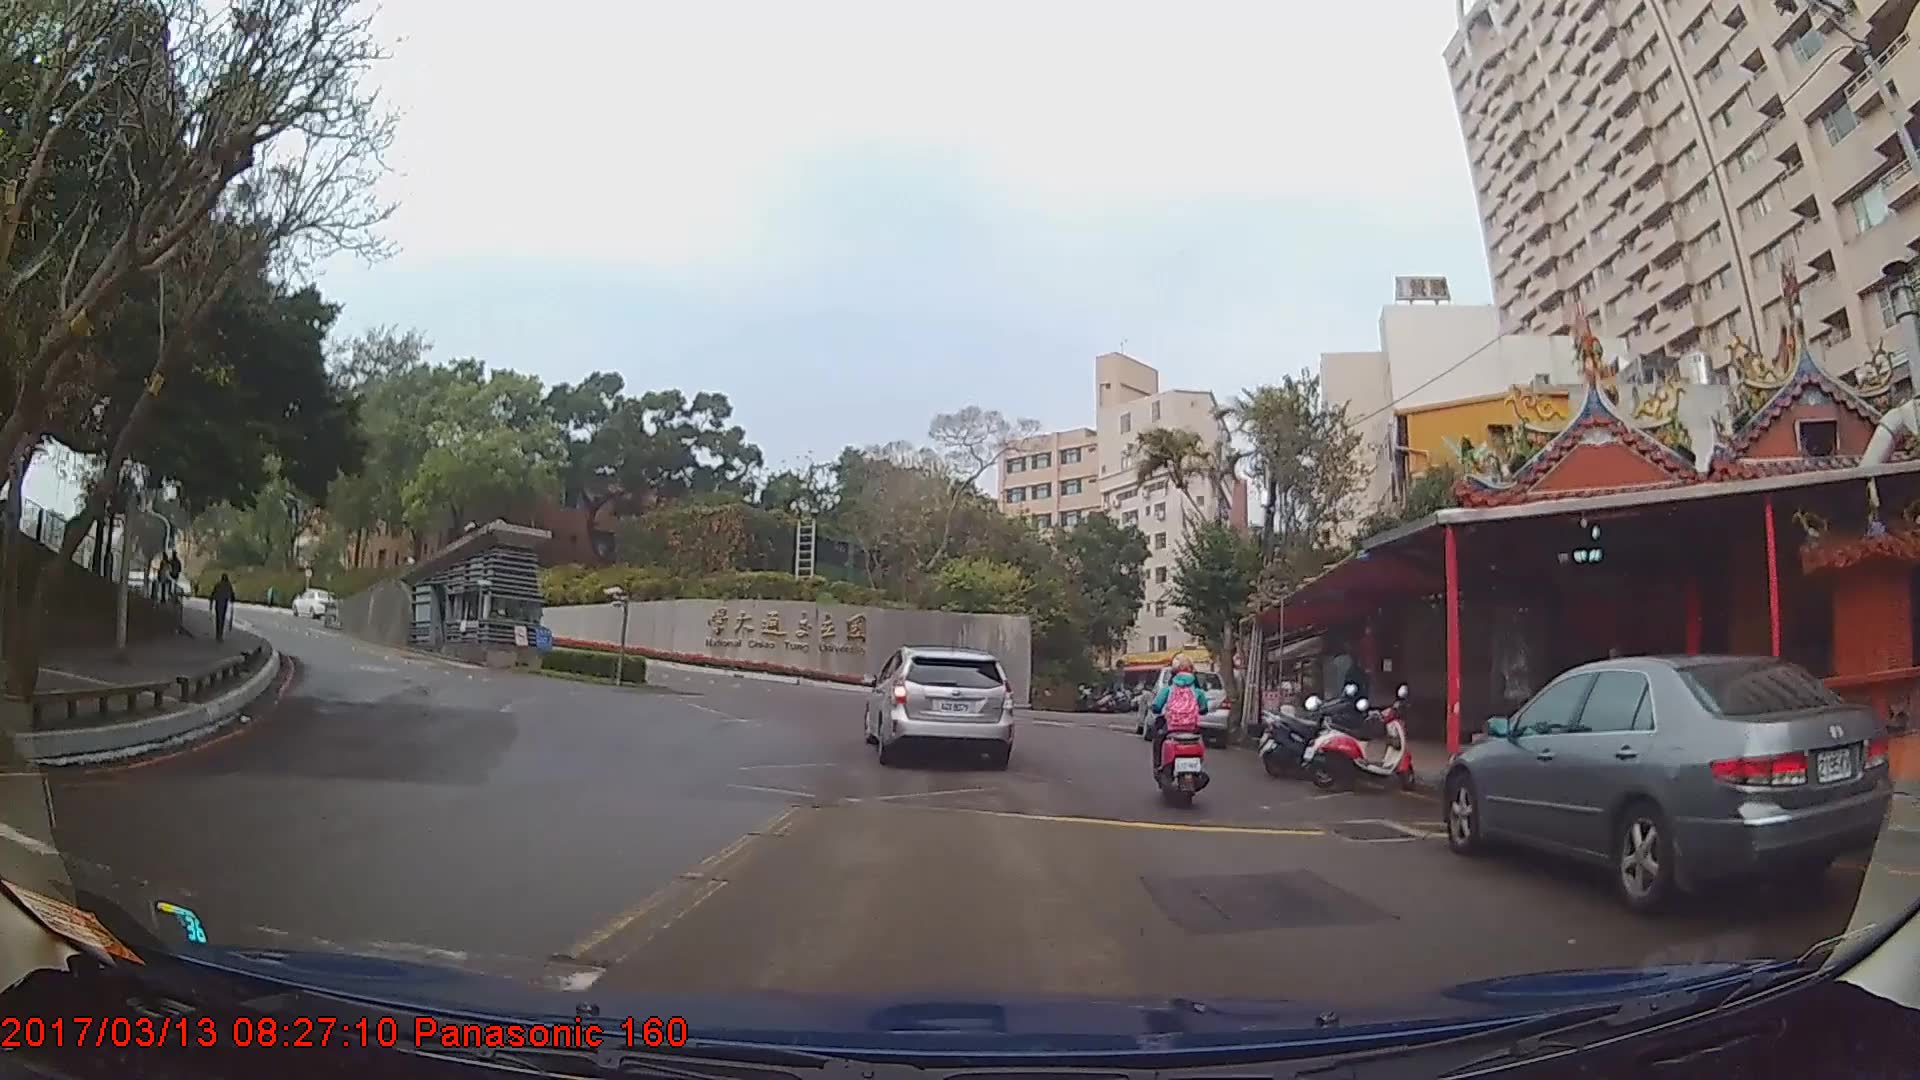pedestrian: (1342, 650, 1377, 744), (210, 575, 238, 644), (168, 548, 188, 605), (156, 549, 176, 608)
rider: (1146, 651, 1219, 811)
vehicle: (1445, 654, 1892, 916), (861, 642, 1012, 766), (1135, 663, 1230, 745), (292, 587, 341, 617)
